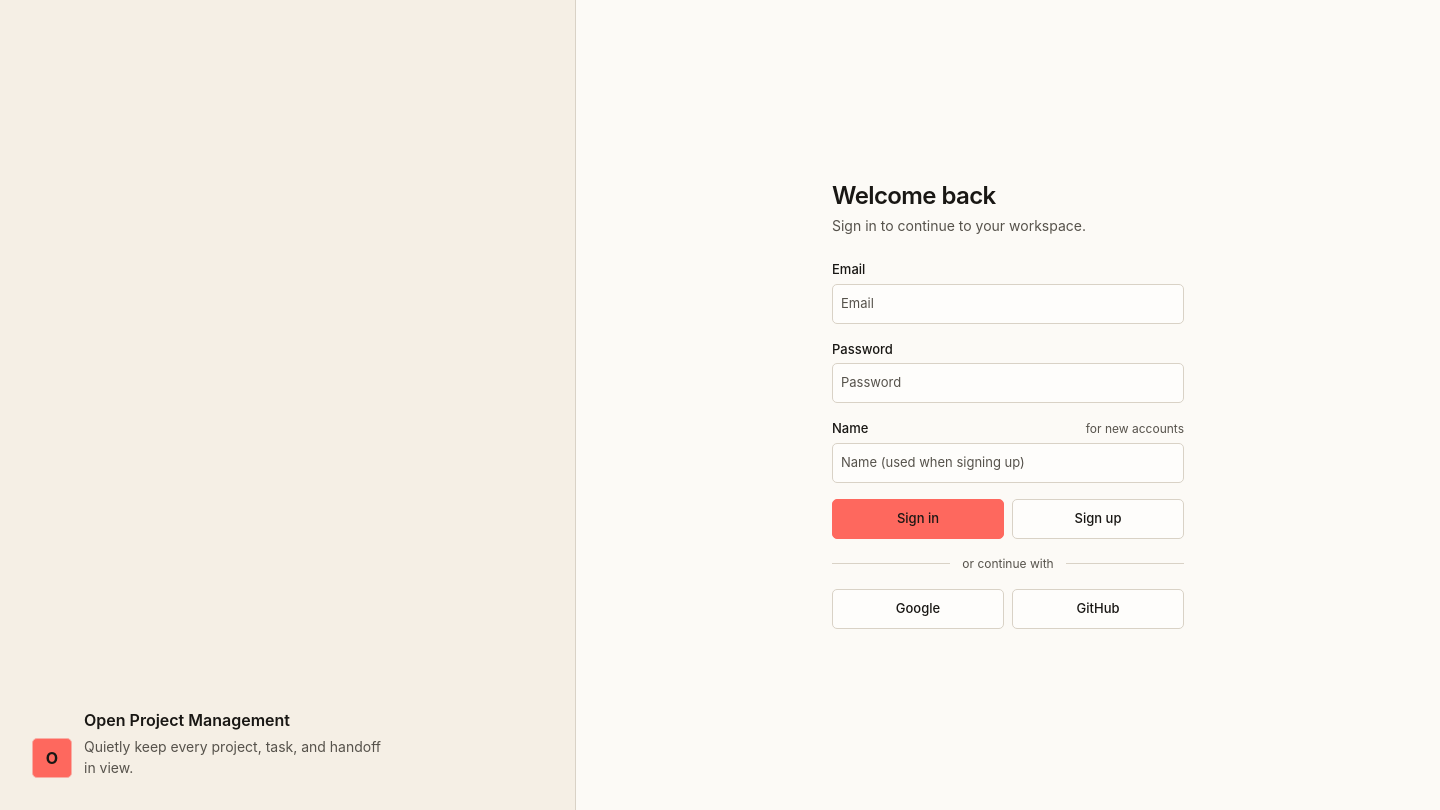
Scenario: LoginPage › renders the error message when sign-in fails
This screenshot has width=1440, height=810.
Type "test@example.com" into the field with placeholder "Email" at (1008, 304), box [832, 284, 1184, 324]
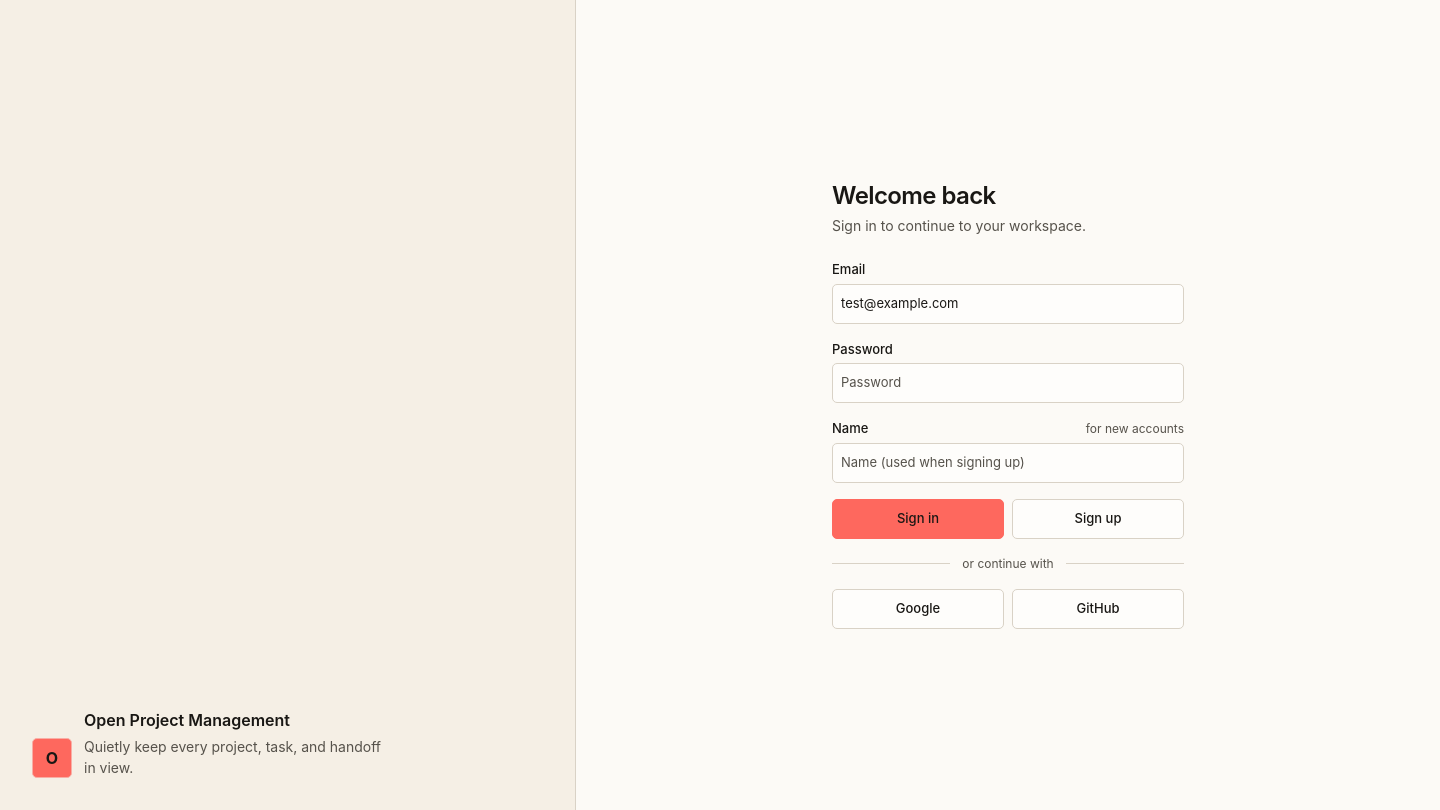
Type "wrongpassword" into the password field with placeholder "Password" at (1008, 383), box [832, 363, 1184, 403]
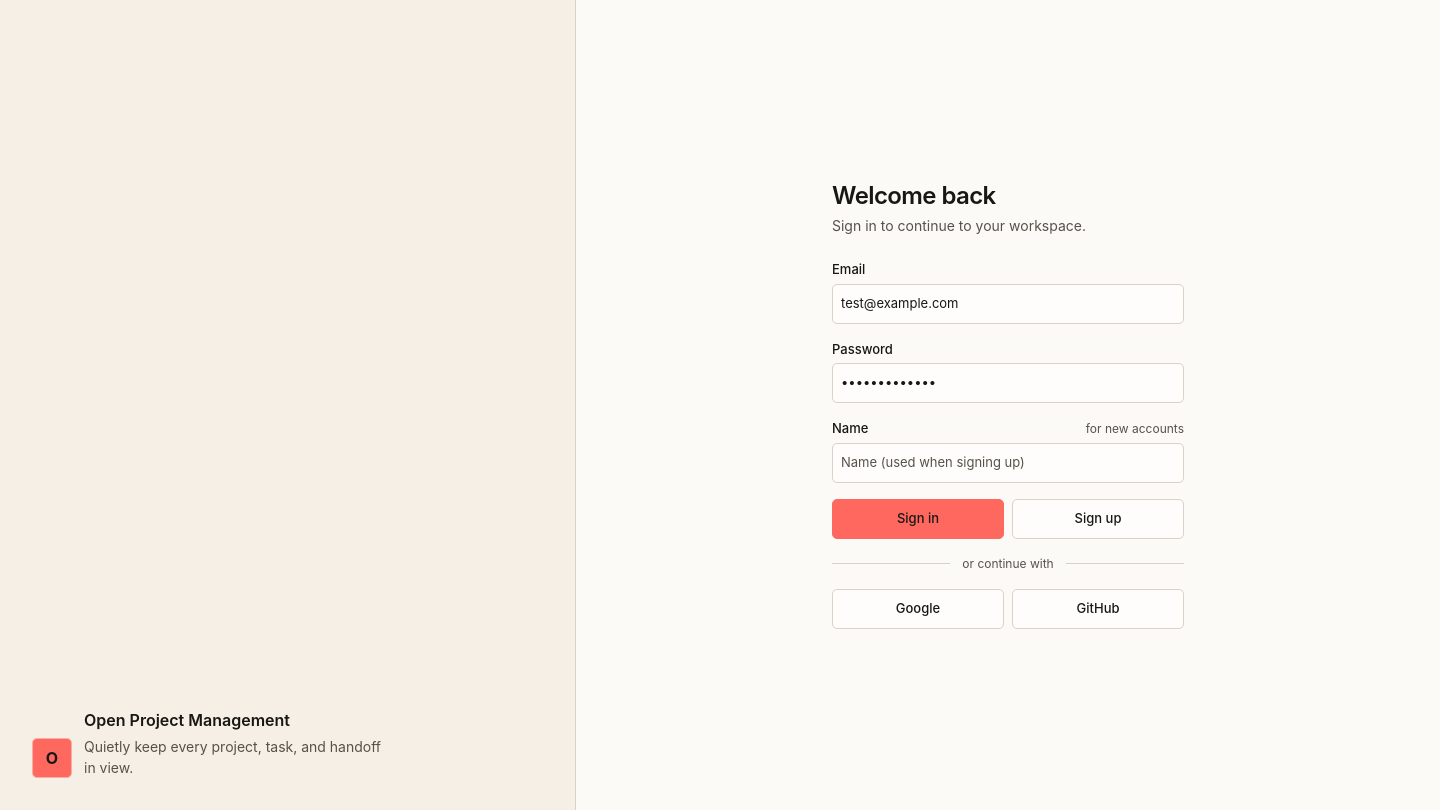
Click the button "Sign in" at (918, 519), box [832, 499, 1004, 539]
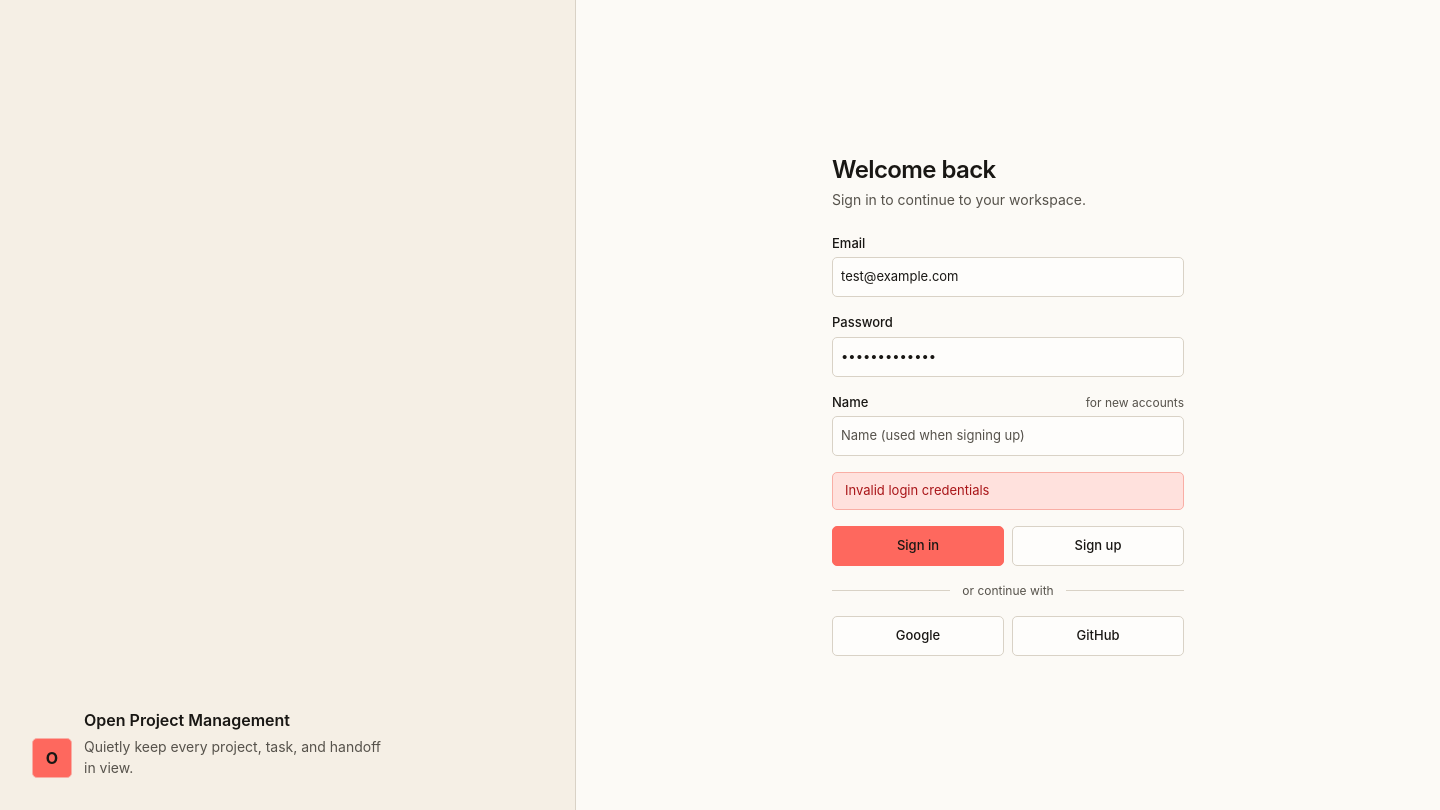
Expected: the text "Invalid login credentials" is shown, [832, 472, 1184, 510]
